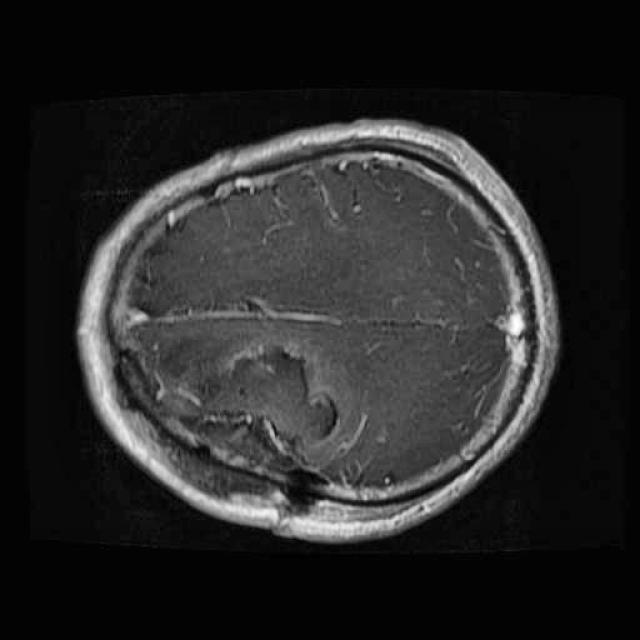Non-Tumor: (171, 322, 356, 486)
